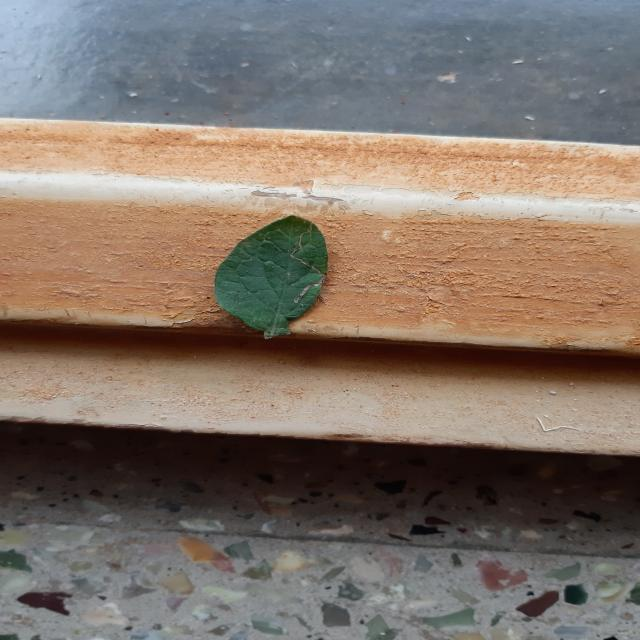tomato: (216, 215, 329, 339)
